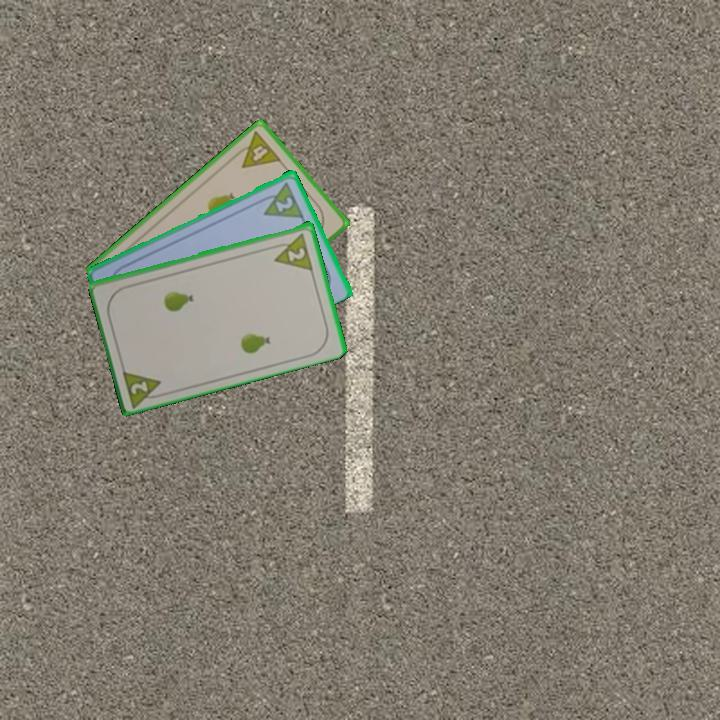2p: (255, 178, 306, 221), (119, 365, 168, 409), (268, 229, 316, 272)
4p: (230, 127, 284, 171)
